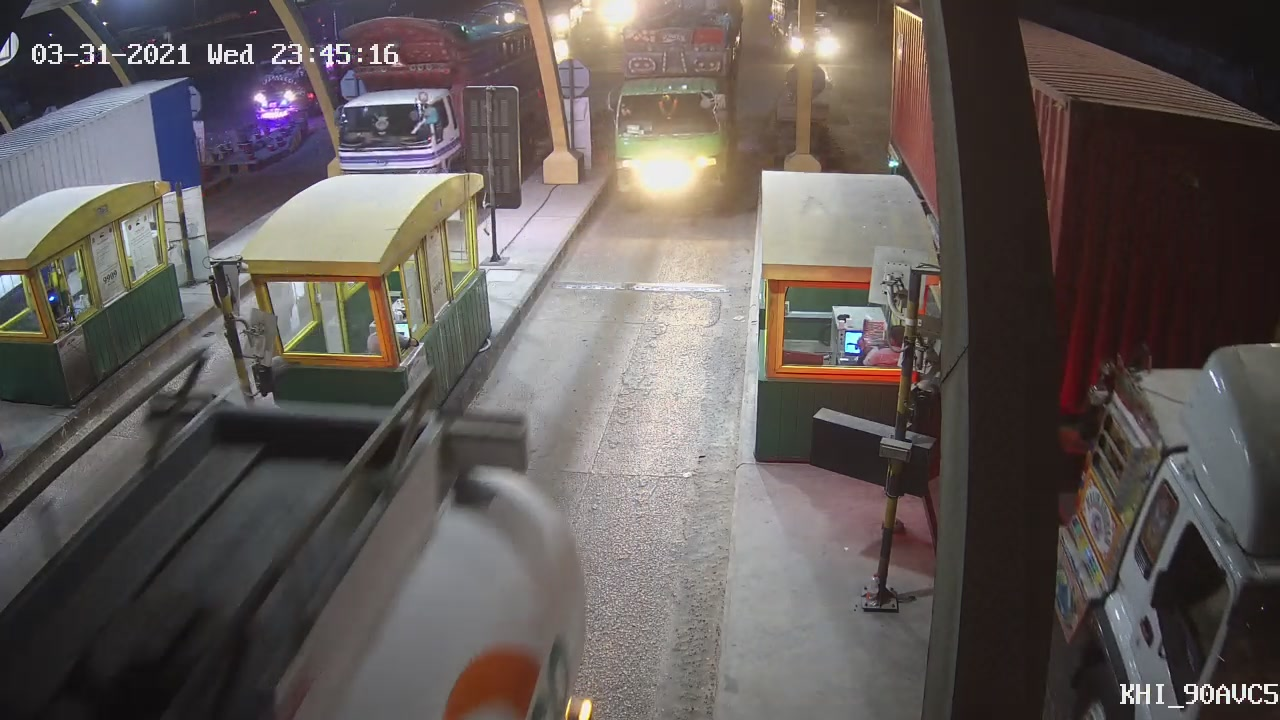F5: (600, 2, 748, 236)
